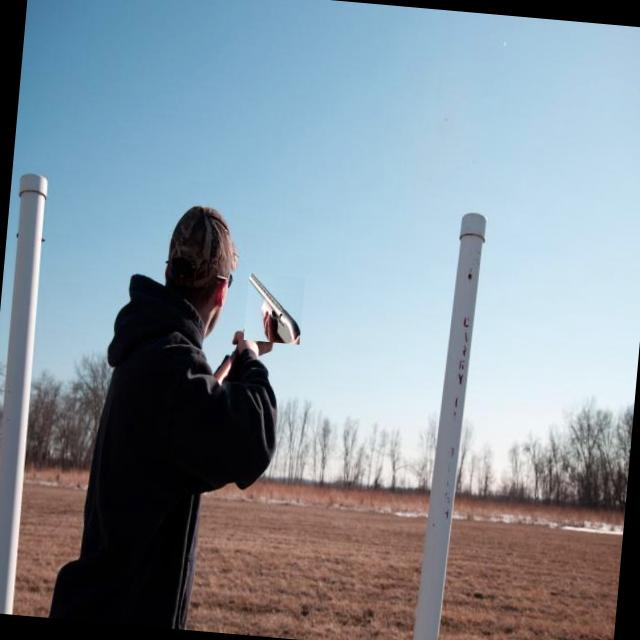Gun: (248, 274, 300, 343), (213, 353, 234, 382)
